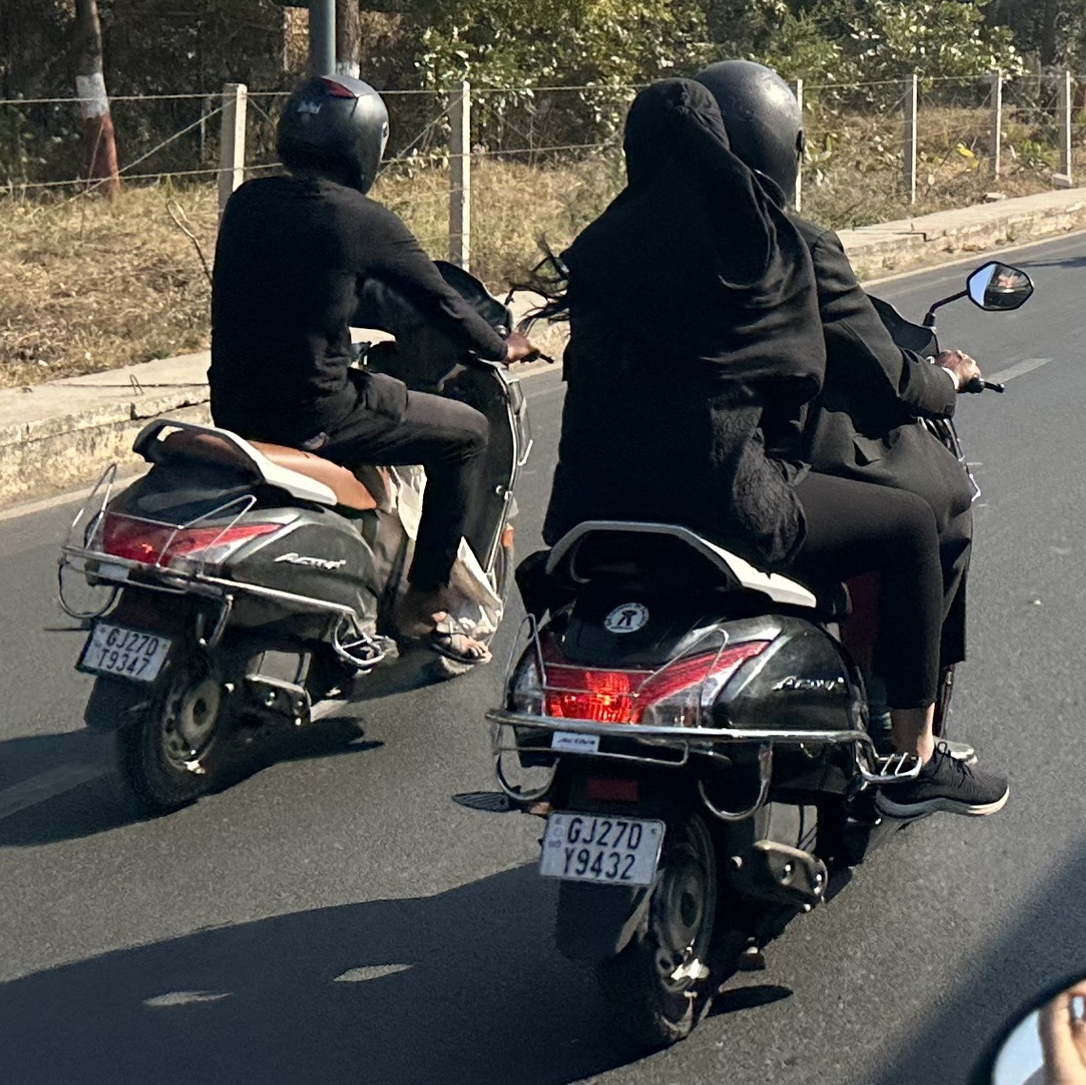BikeWithRider: (475, 49, 1040, 1054), (31, 67, 553, 818)
Helmet: (695, 56, 817, 213), (262, 68, 408, 185)
NoHelmet: (610, 75, 743, 203)
